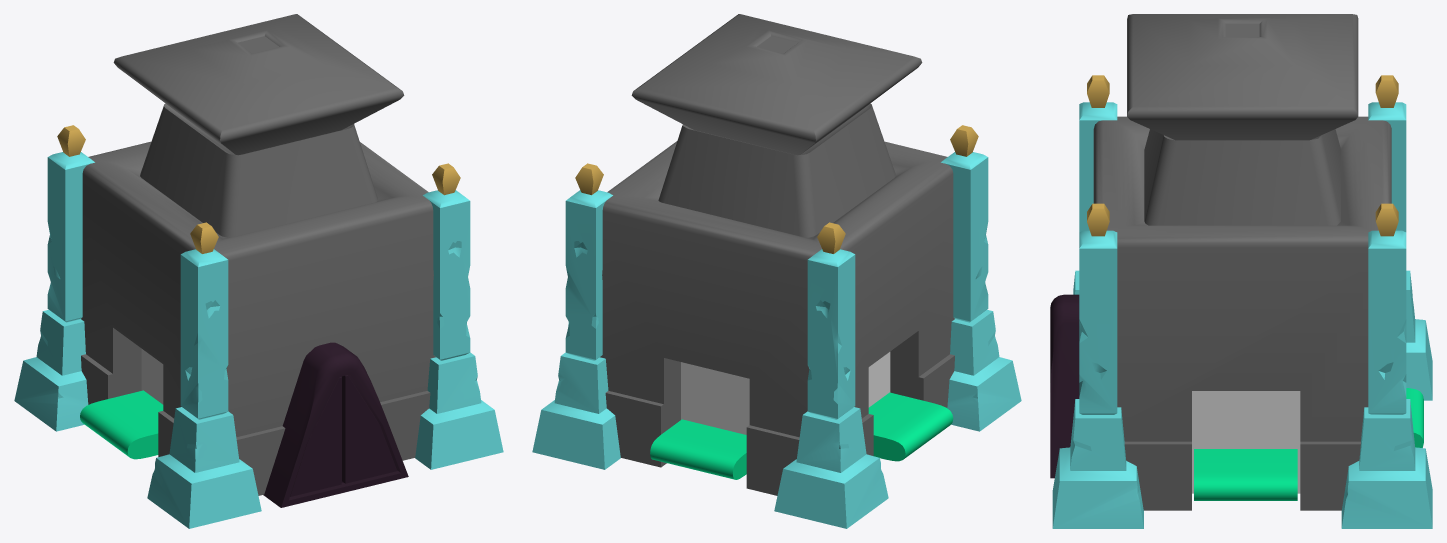
The model's file is Main Tower LV1.fbx.
3 views of the same model, side by side, from view 1: azimuth 30°, elevation 25°; view 2: azimuth 150°, elevation 25°; view 3: azimuth 270°, elevation 25° (orthographic). The views are drawn at different scales.
Visible parts, largest first — view 1: Cube.002; view 2: Cube.002; view 3: Cube.002.
Boxes of the visible parts, x1,y1,x2,y2 form: Cube.002: (14, 14, 503, 528); Cube.002: (532, 14, 1021, 528); Cube.002: (1050, 14, 1432, 528).
Size of the model in its own units: 254 by 297 by 246.
